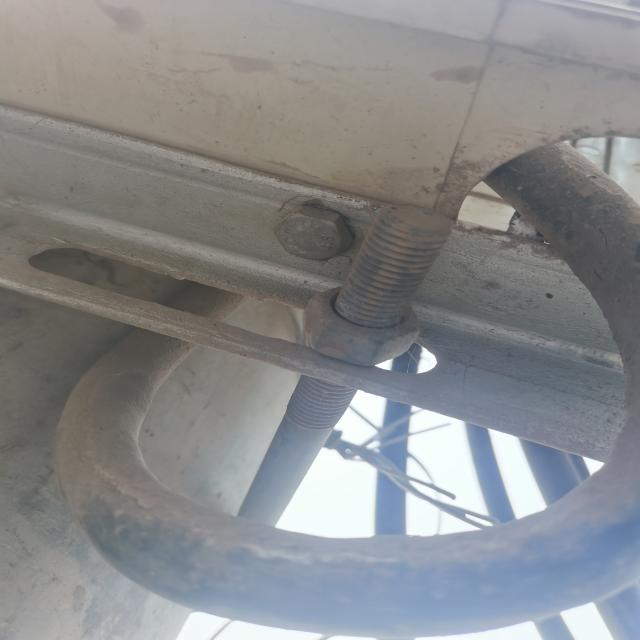bolt head: (270, 203, 358, 264)
bolt nut: (298, 278, 424, 365)
